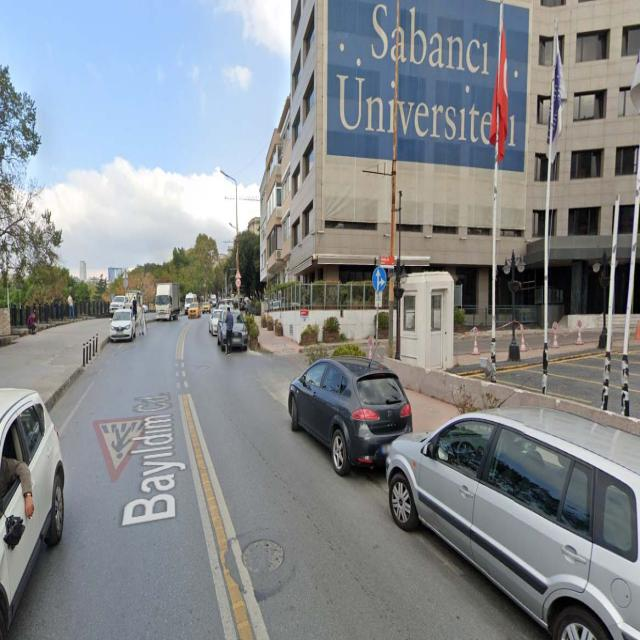ilerisag: (373, 266, 386, 293)
